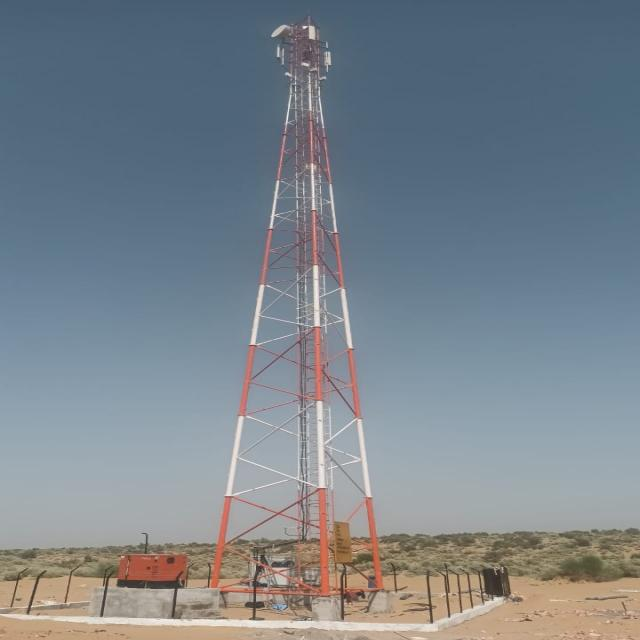GSM Antenna: (306, 25, 320, 41), (274, 42, 283, 61), (325, 51, 332, 66)
Microwave Antenna: (265, 23, 293, 39)
